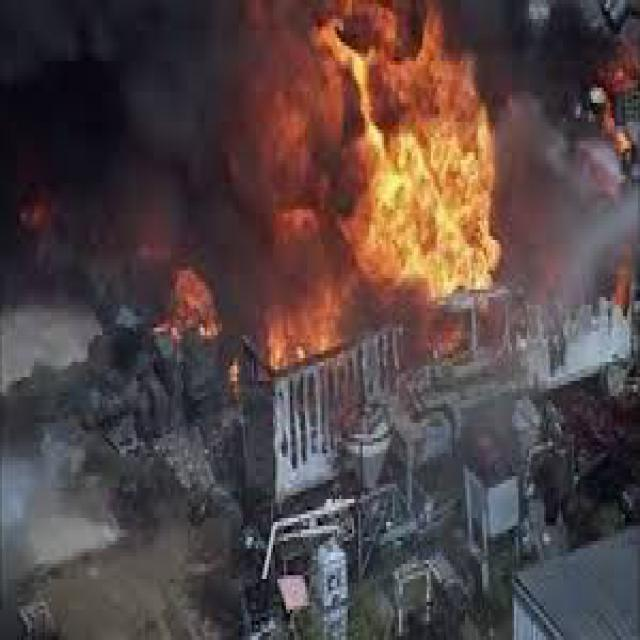Fire: (253, 10, 500, 294)
Smoke: (0, 0, 221, 419)
